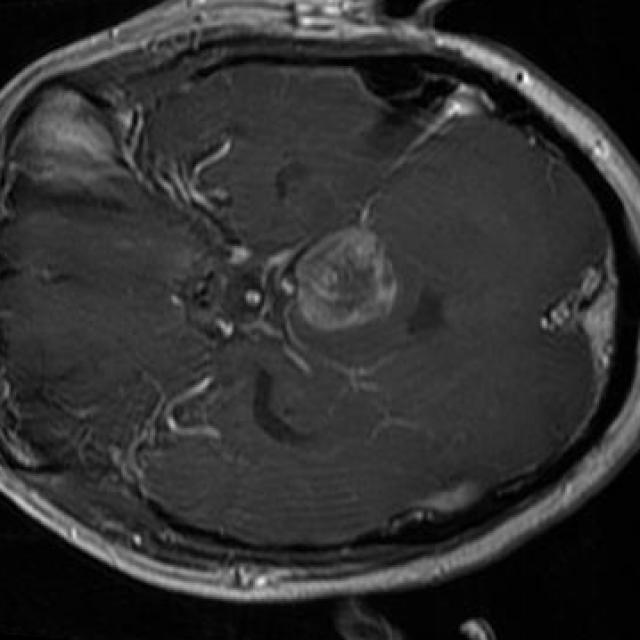glioma: (292, 228, 398, 330)
